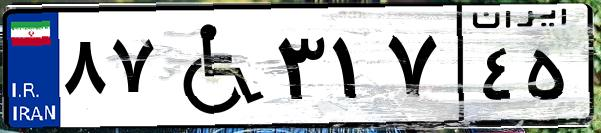1: (330, 28, 385, 110)
3: (270, 28, 330, 110)
4: (475, 38, 525, 113)
5: (525, 38, 570, 115)
7: (385, 28, 445, 110), (110, 28, 158, 98)
8: (57, 26, 110, 100)
ژ (معلولین و جانبازان): (158, 12, 270, 120)
